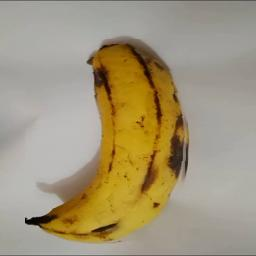Banana Semifresh: (25, 39, 191, 243)
